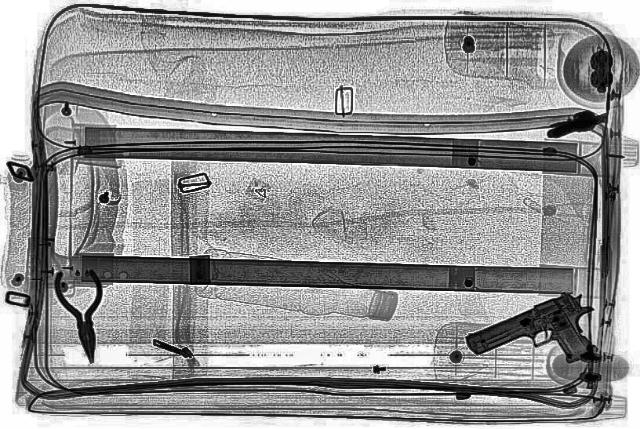Gun: (453, 288, 629, 387)
Pliers: (51, 268, 118, 364)
